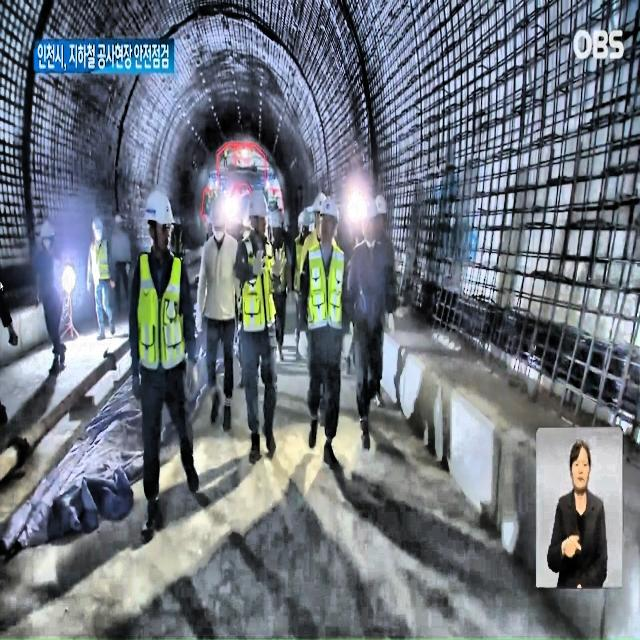safety_helmet: (140, 190, 178, 246), (244, 190, 280, 243), (359, 190, 396, 230), (316, 191, 342, 231), (36, 225, 62, 250), (206, 197, 226, 225), (88, 205, 106, 231)
safety_jacket: (132, 254, 195, 391), (233, 233, 283, 337), (302, 233, 348, 338), (87, 240, 115, 280)
